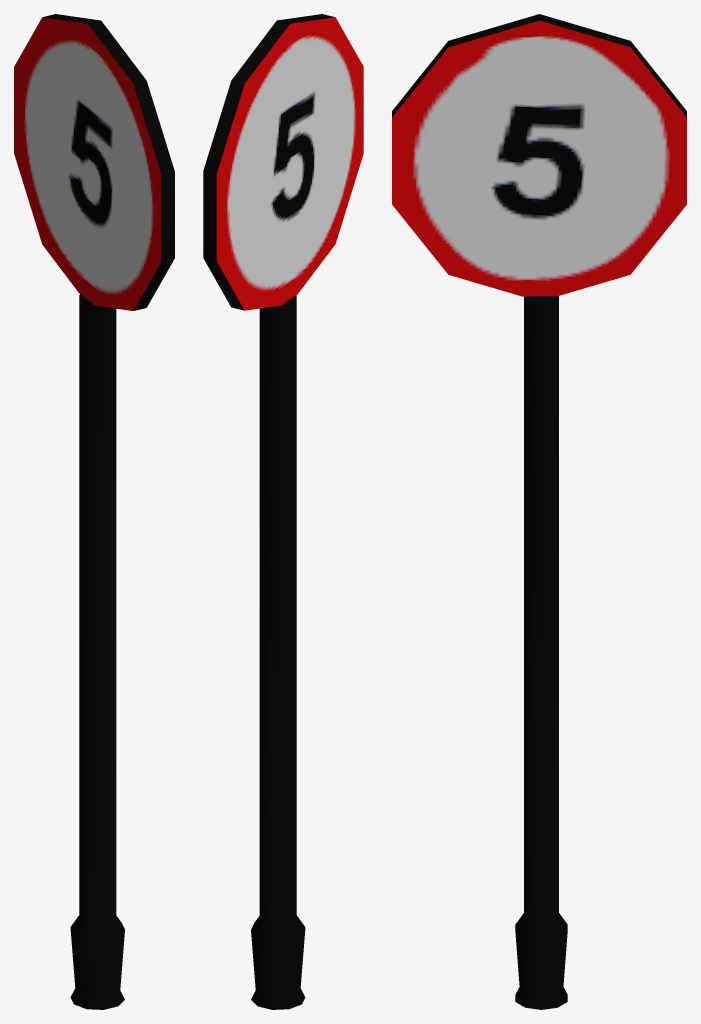
3 renders of one model, left to right at view 1: azimuth 30°, elevation 25°; view 2: azimuth 150°, elevation 25°; view 3: azimuth 270°, elevation 25°, orthographic.
Visible parts, largest first — view 1: Cylinder002; view 2: Cylinder002; view 3: Cylinder002.
Part boxes in pixels (x1,y1,x2,y2): Cylinder002: [14, 14, 174, 1009]; Cylinder002: [203, 14, 363, 1009]; Cylinder002: [392, 14, 686, 1009].
Size of the model in its own units: 1.42 by 27.86 by 7.61.
